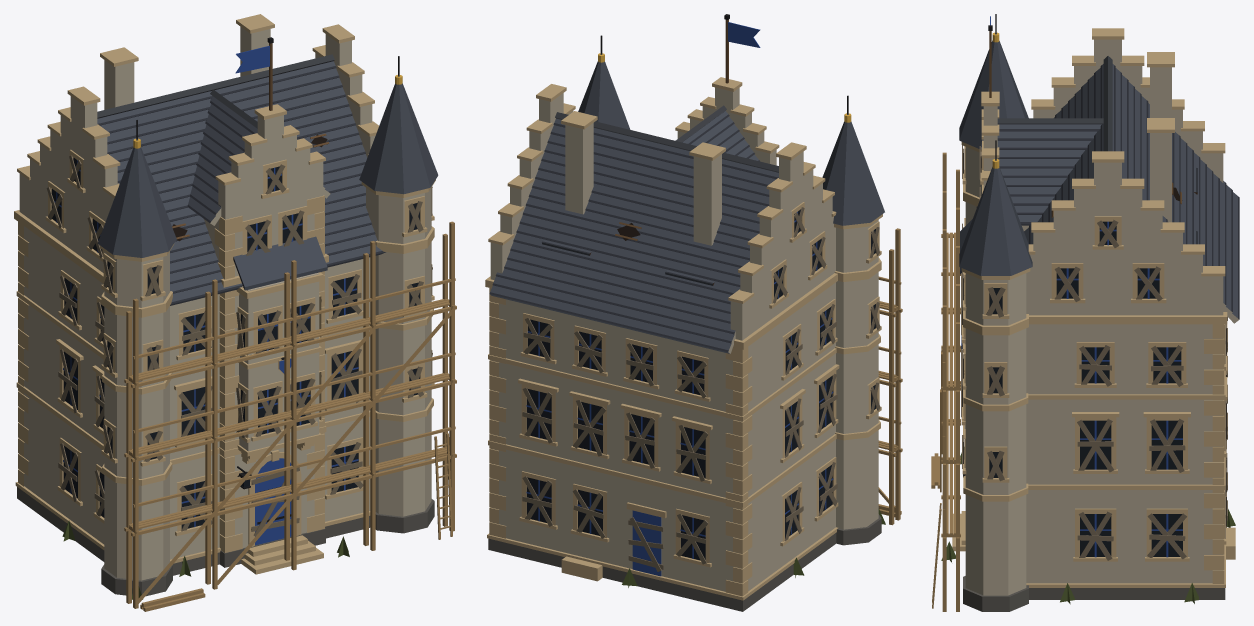
File: stadtpalais.glb
3 renders of one model, left to right at view 1: azimuth 30°, elevation 25°; view 2: azimuth 150°, elevation 25°; view 3: azimuth 270°, elevation 25°, orthographic. The views are drawn at different scales.
Visible parts, largest first — view 1: Haus, Geruest, Leerstand, Fahne; view 2: Haus, Leerstand, Geruest, Fahne; view 3: Haus, Leerstand, Geruest.
Part boxes in pixels (<box>): Haus: <box>14,14,438,596</box>; Geruest: <box>124,221,456,611</box>; Leerstand: <box>46,133,432,599</box>; Fahne: <box>235,37,273,110</box>; Haus: <box>485,35,884,611</box>; Leerstand: <box>522,207,885,587</box>; Geruest: <box>878,228,902,525</box>; Fahne: <box>724,14,760,83</box>; Haus: <box>952,14,1239,611</box>; Leerstand: <box>941,145,1235,604</box>; Geruest: <box>931,152,960,611</box>.
Bounding box in the file's own units: 11.95 × 18.02 × 9.89.
